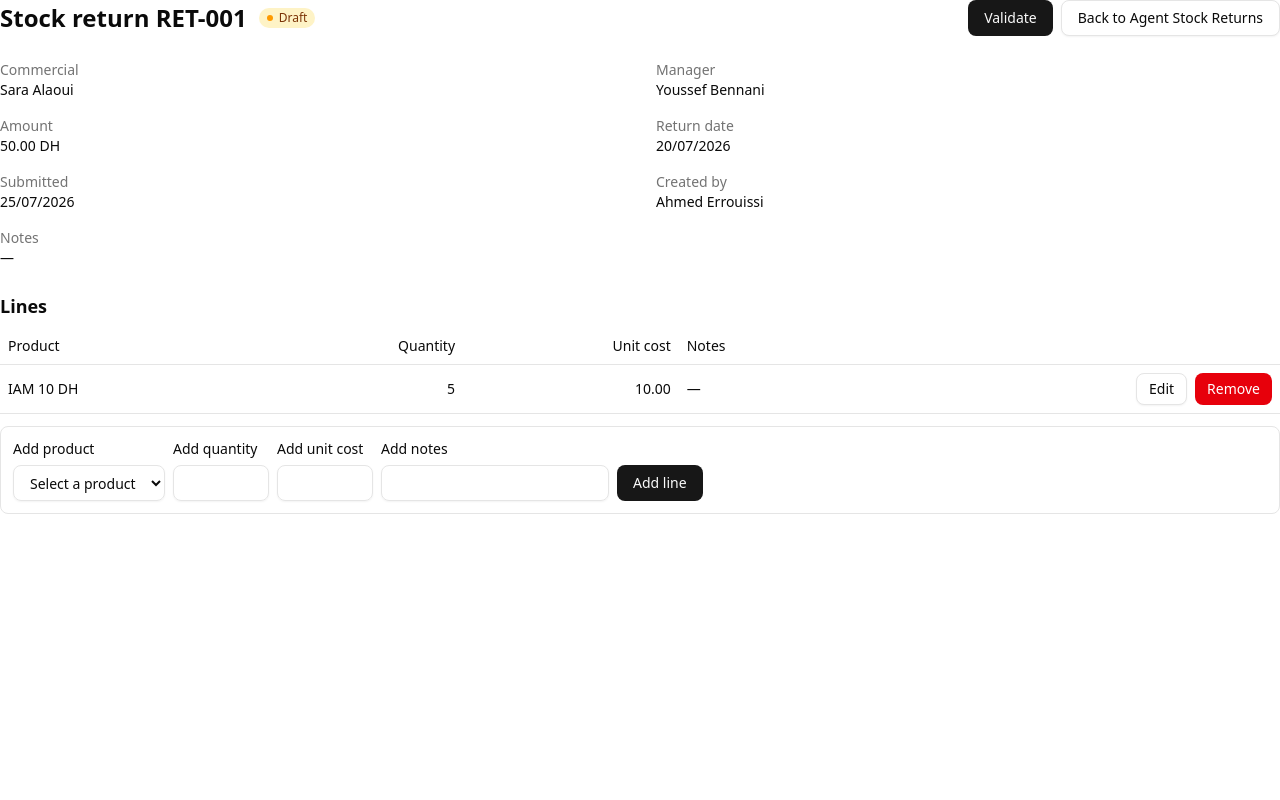
Scenario: Validate — freshness rule (M4 · G4 closure) and error codes › blocks confirm when the fresh read shows the return already processed
Click the button "Validate" at (1010, 18), box [968, 0, 1053, 36]
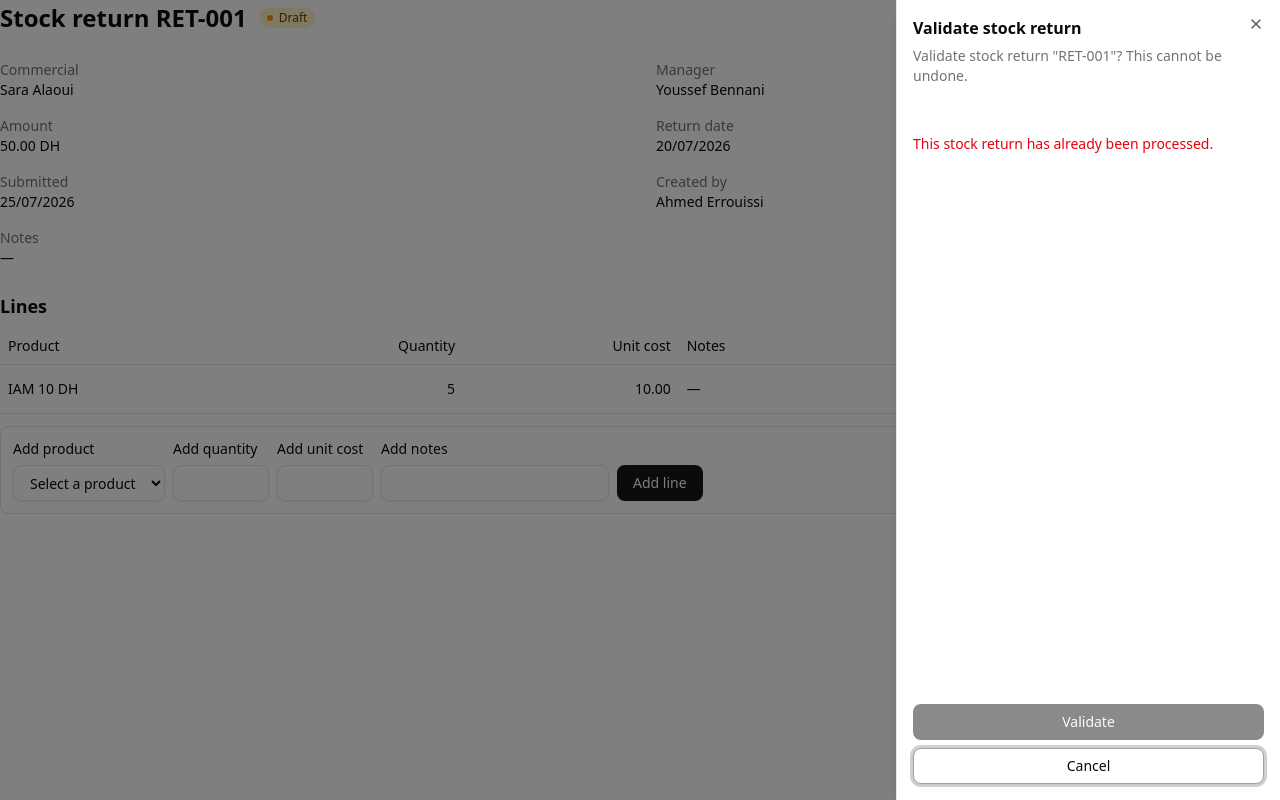
Check: the text "This stock return has already been processed." is shown, box [913, 134, 1213, 153]
Check: the button "Validate" is disabled, box [913, 704, 1264, 740]
